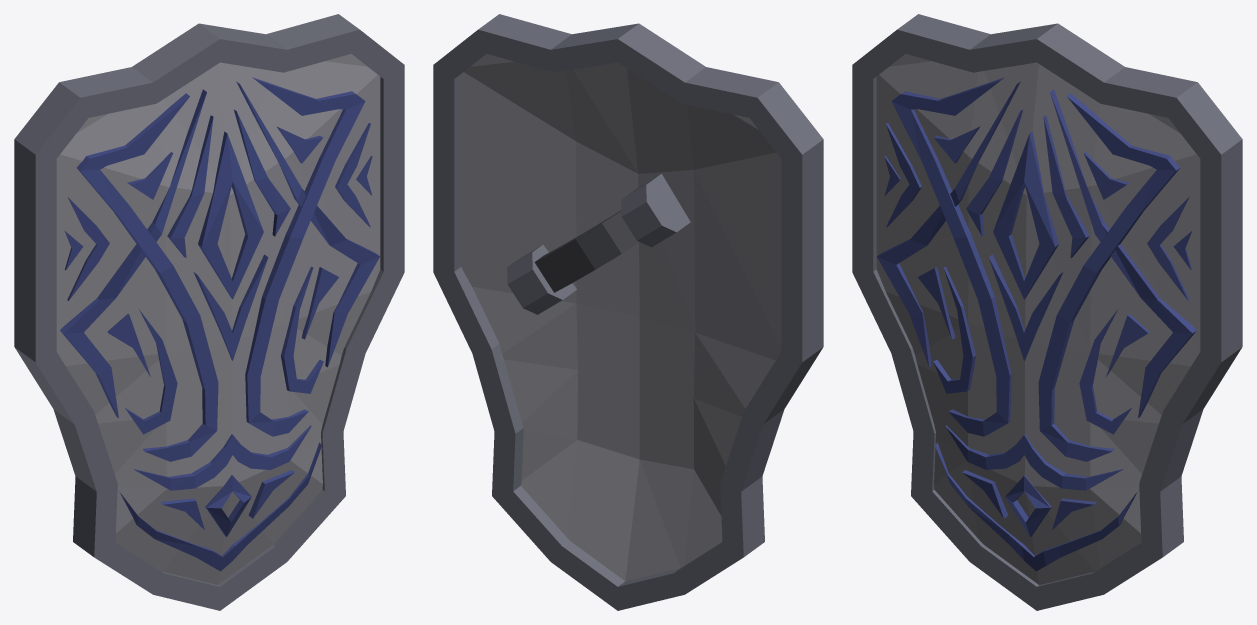
File: _Shield_3.fbx
The picture shows the model from 3 angles, left to right: view 1: azimuth 30°, elevation 25°; view 2: azimuth 150°, elevation 25°; view 3: azimuth 330°, elevation 25°; orthographic projection.
Visible parts, largest first — view 1: Shield_3; view 2: Shield_3; view 3: Shield_3.
Boxes of the visible parts, left/top/right/bottom form: Shield_3: left=14, top=14, right=404, bottom=610; Shield_3: left=433, top=14, right=823, bottom=610; Shield_3: left=852, top=14, right=1242, bottom=610.
Size of the model in its own units: 63.63 by 94.26 by 12.35.
